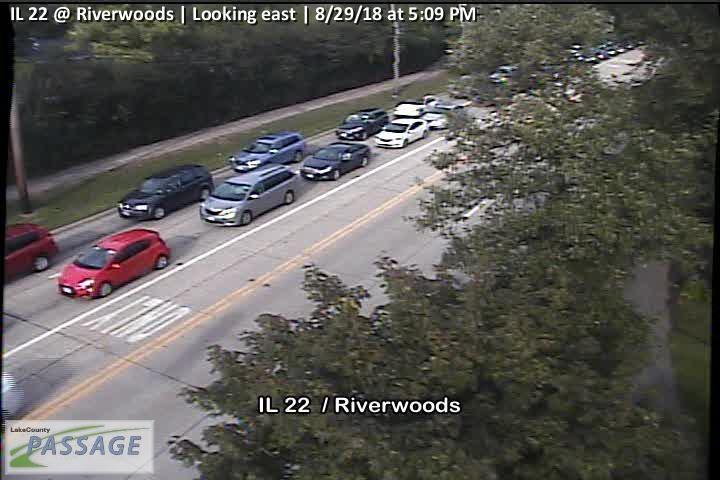SUV: (198, 162, 300, 227), (115, 163, 213, 220), (230, 130, 306, 172), (335, 107, 389, 139)
Sedan: (58, 228, 172, 299), (300, 141, 371, 181), (374, 117, 430, 148)
